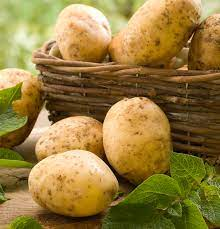potato: (104, 96, 176, 178), (27, 150, 117, 213), (116, 0, 192, 70), (56, 2, 111, 58)
spinach: (111, 154, 220, 229)
